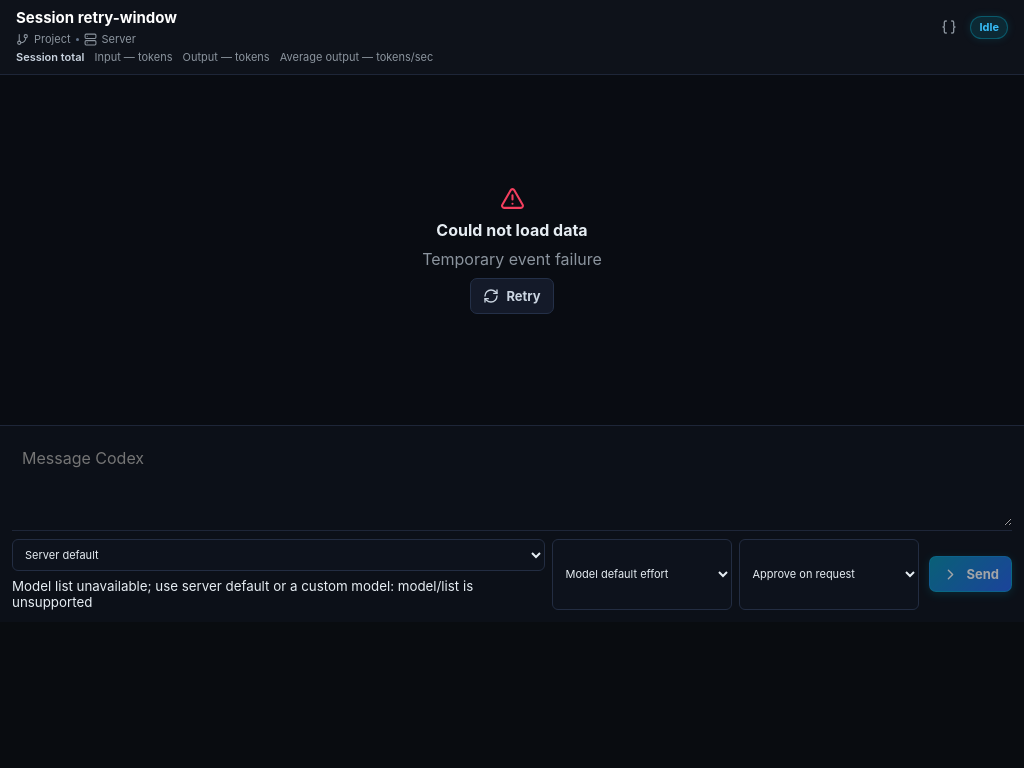
Test: retries an initial load as a fresh window when recovery starts without cached events
Expected: the text "Temporary event failure" is shown, [422,249,602,269]
Click the button "Retry".
click(512, 296)  # box [470,278,554,314]
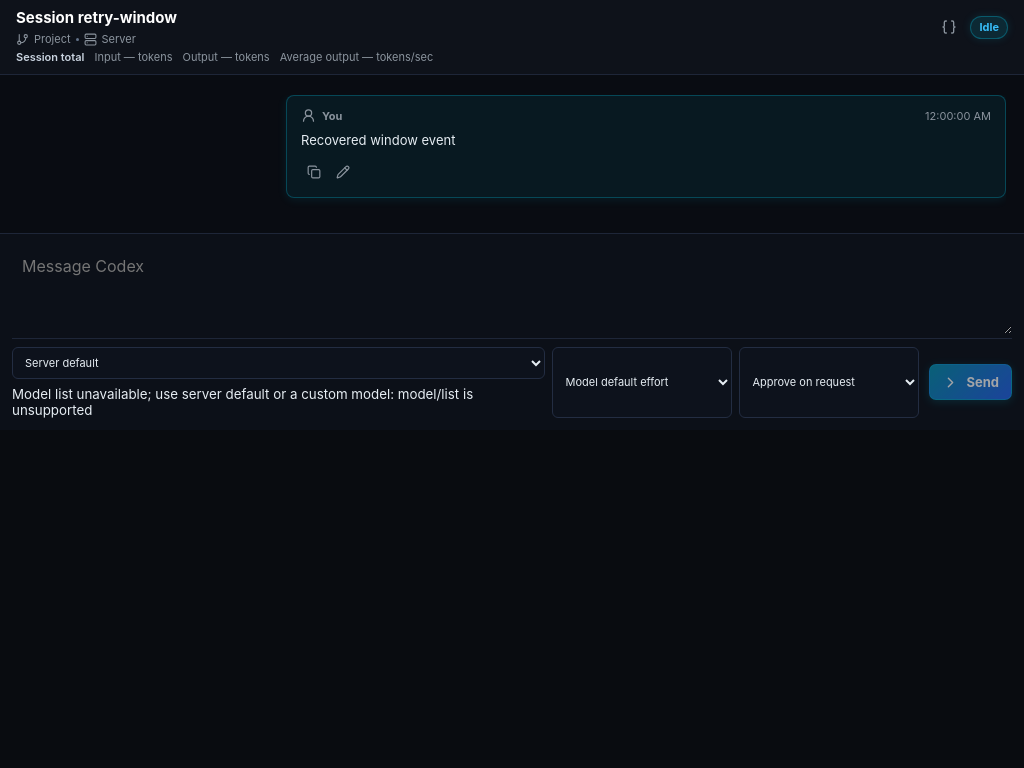
Expected: the text "Recovered window event" is shown, [301,132,455,148]
